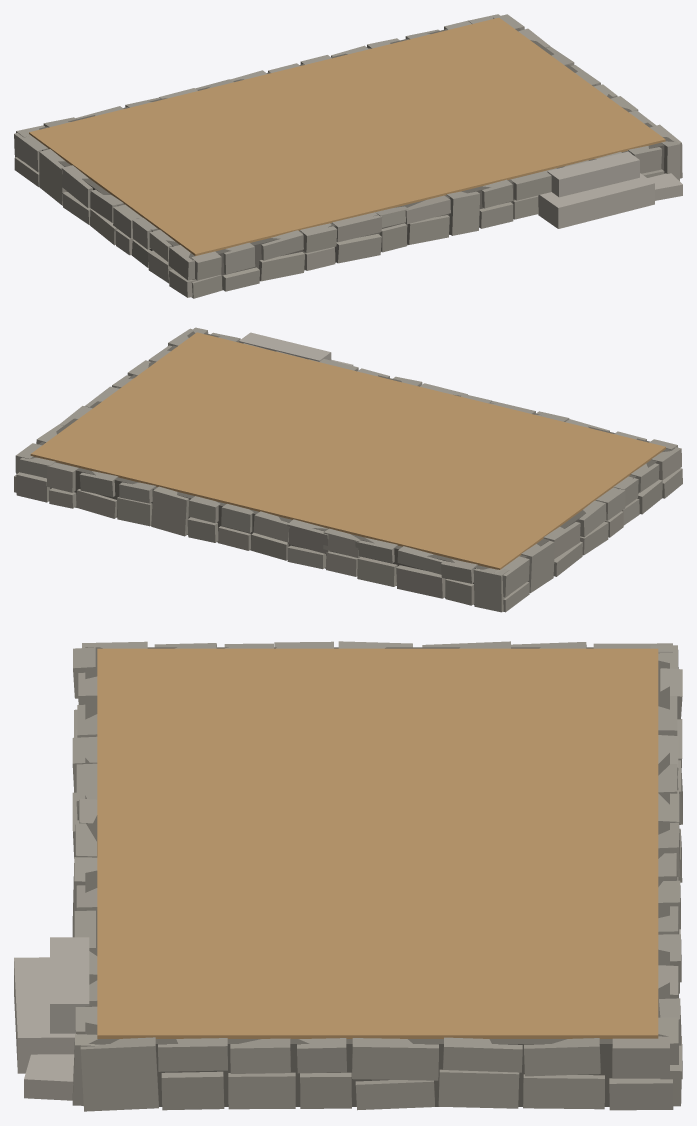
File: foundation.glb
3 views of the same model, one above another, from view 1: azimuth 30°, elevation 25°; view 2: azimuth 150°, elevation 25°; view 3: azimuth 270°, elevation 25° (orthographic). The views are drawn at different scales.
Visible parts, largest first — view 1: floor, foundation_stones, door_step, foundation_core; view 2: floor, foundation_stones, foundation_core, door_step; view 3: floor, foundation_stones, door_step, foundation_core.
Part boxes in pixels (left/top/right/bottom): floor: left=29, top=17, right=665, bottom=255; foundation_stones: left=14, top=14, right=682, bottom=298; door_step: left=538, top=151, right=682, bottom=228; foundation_core: left=39, top=18, right=673, bottom=290; floor: left=30, top=332, right=665, bottom=569; foundation_stones: left=14, top=327, right=682, bottom=612; foundation_core: left=21, top=331, right=675, bottom=604; door_step: left=239, top=332, right=353, bottom=365; floor: left=97, top=648, right=658, bottom=1038; foundation_stones: left=72, top=641, right=682, bottom=1111; door_step: left=14, top=937, right=89, bottom=1100; foundation_core: left=85, top=647, right=669, bottom=1106.
Size of the model in its own units: 7.36 by 0.5607 by 5.1.
